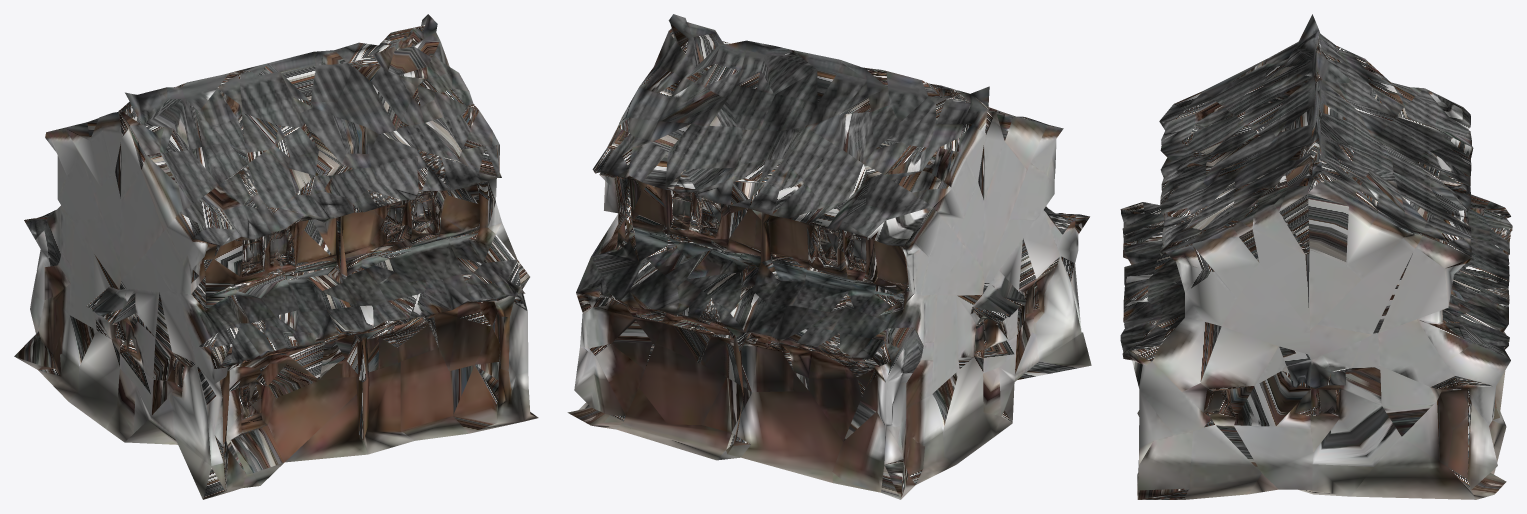
File: bq_house_2f.far.glb
The picture shows the model from 3 angles, left to right: view 1: azimuth 30°, elevation 25°; view 2: azimuth 150°, elevation 25°; view 3: azimuth 270°, elevation 25°; orthographic projection. The views are drawn at different scales.
Size of the model in its own units: 1.9 by 1.68 by 1.8.
1 material, 1 textured.
